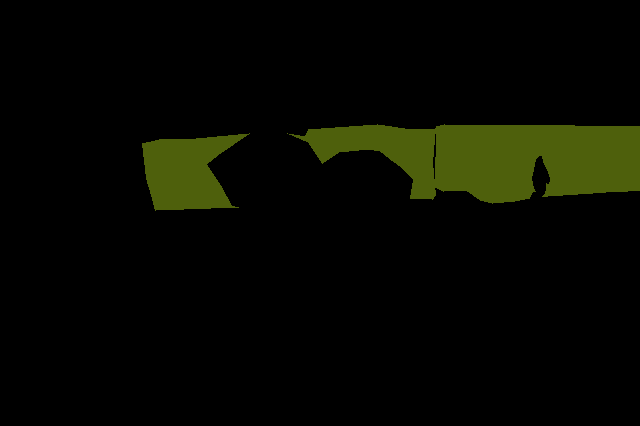Train: (142, 124, 436, 210), (435, 124, 640, 204)
